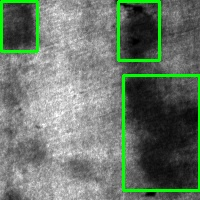patches: (123, 75, 199, 190), (118, 1, 159, 60), (1, 1, 37, 51)
